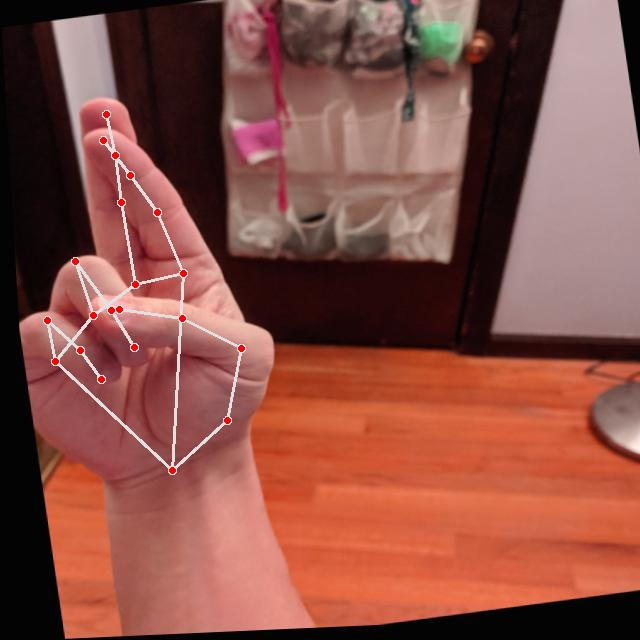R: (4, 71, 295, 497)
